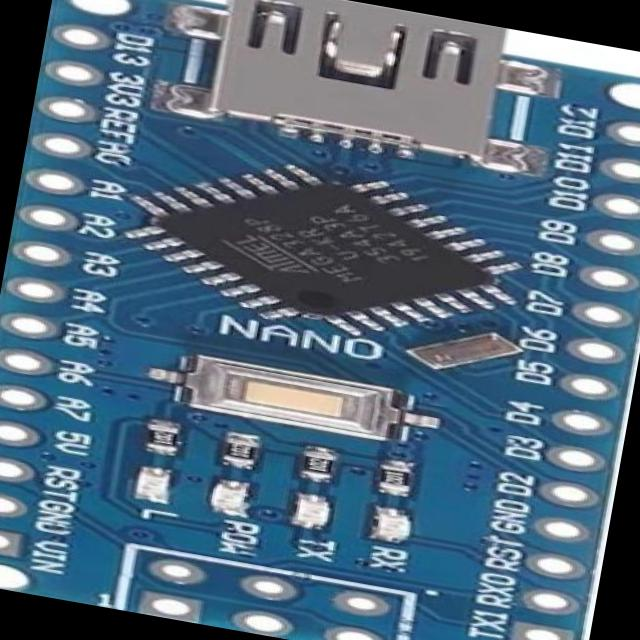IC: (129, 175, 527, 335)
LED: (367, 506, 415, 547), (288, 491, 333, 531), (209, 478, 249, 519), (132, 467, 169, 504)
connector: (184, 0, 527, 169)
resistor: (145, 420, 186, 459), (375, 466, 416, 498), (302, 451, 339, 482), (220, 434, 253, 466)
